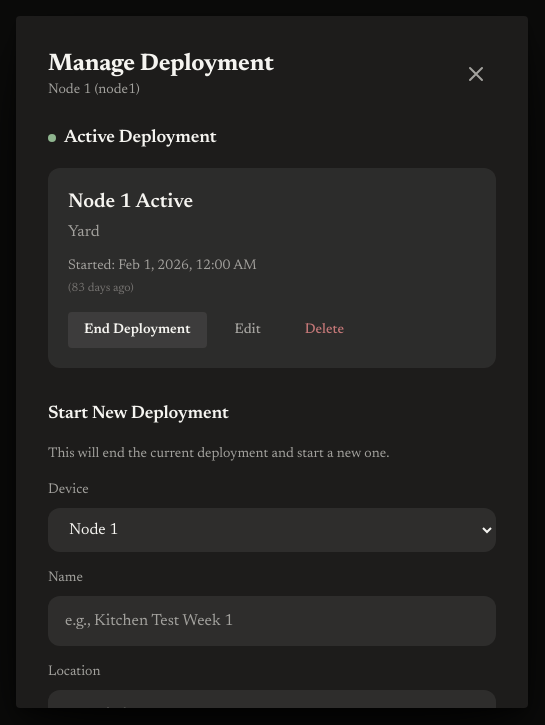
Test: DeploymentModal › shows an error and keeps state when ending a deployment fails
Expected: the heading "Active Deployment" is shown, [64,124,216,152]
Click the button "End Deployment".
click(137, 330)  # box [68,312,206,348]
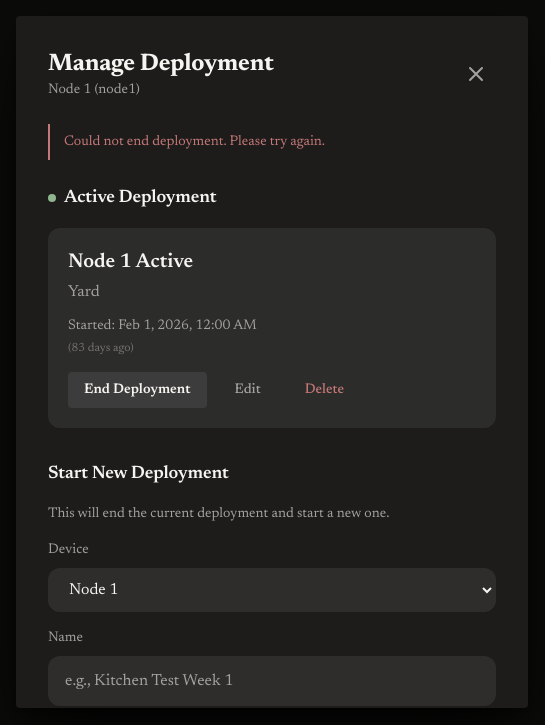
Expected: the heading "Active Deployment" is shown, [64,184,216,212]
Result: the text "Could not end deployment. Please try again." is shown at [64,135,325,149]
